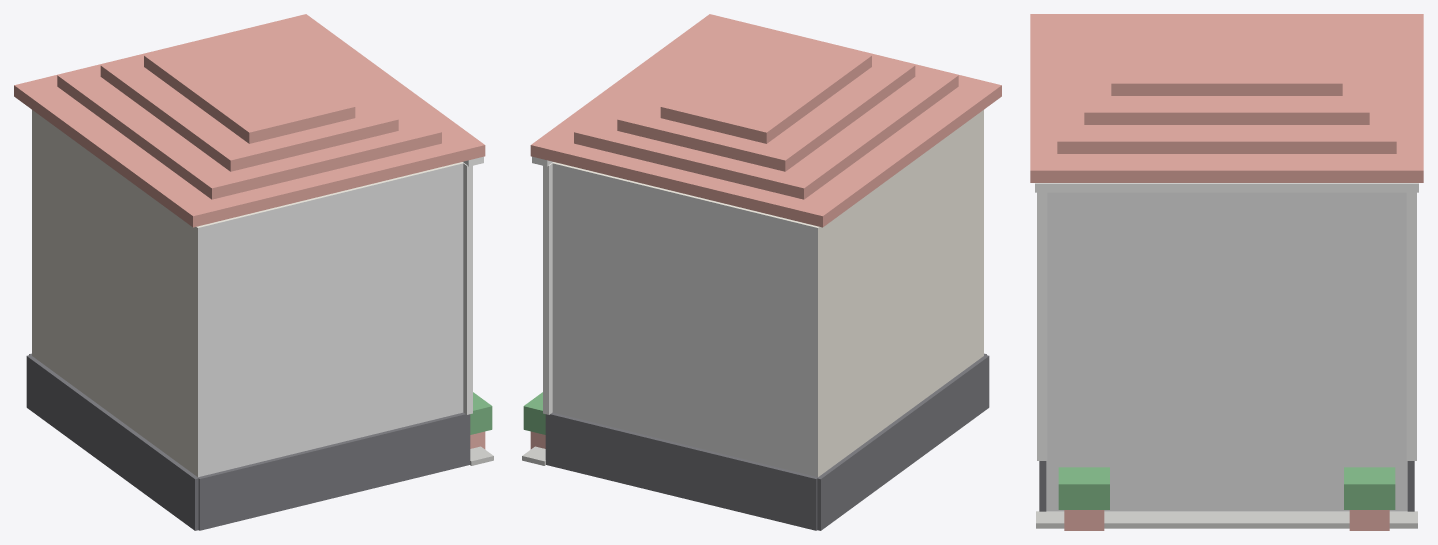
The model's file is FShop_Sq.fbx.
3 renders of one model, left to right at view 1: azimuth 30°, elevation 25°; view 2: azimuth 150°, elevation 25°; view 3: azimuth 270°, elevation 25°, orthographic. The views are drawn at different scales.
Visible parts, largest first — view 1: FShop_Sq; view 2: FShop_Sq; view 3: FShop_Sq.
Boxes of the visible parts, x1,y1,x2,y2 form: FShop_Sq: (14, 14, 493, 530); FShop_Sq: (522, 14, 1001, 530); FShop_Sq: (1030, 14, 1423, 530).
Size of the model in its own units: 6.95 by 7.53 by 6.9.
